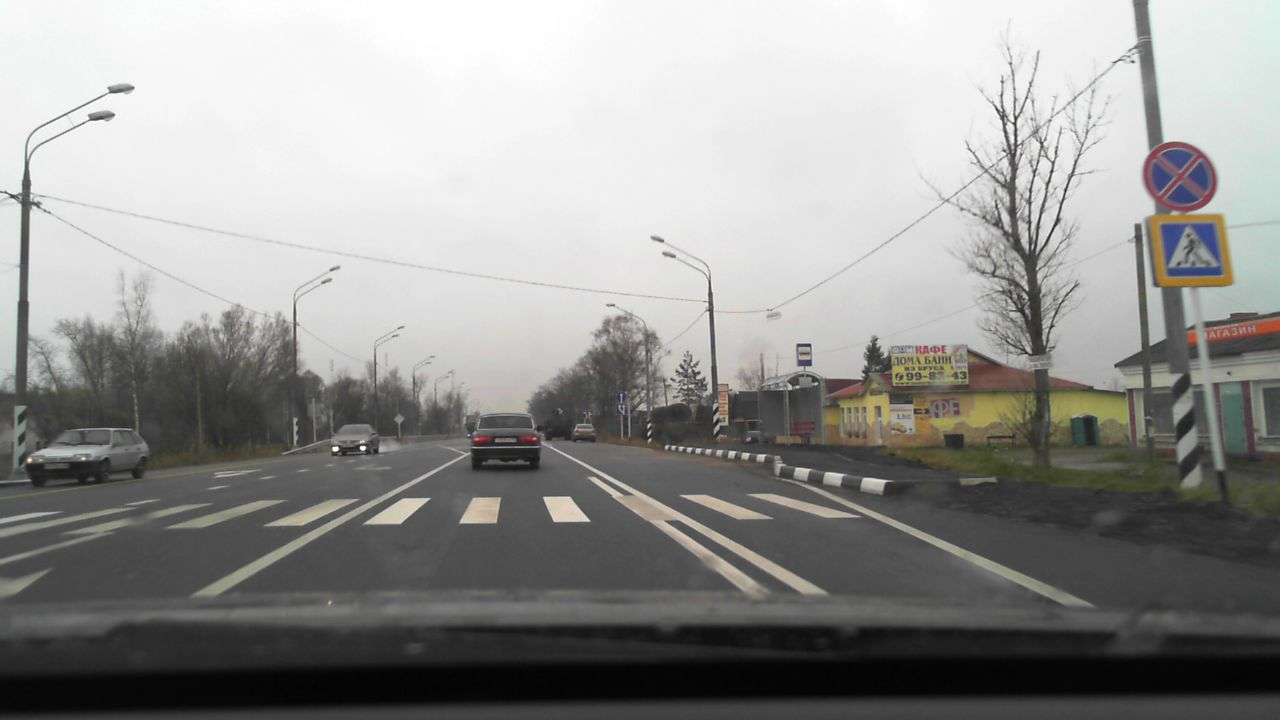No Parking: (1143, 141, 1219, 211)
